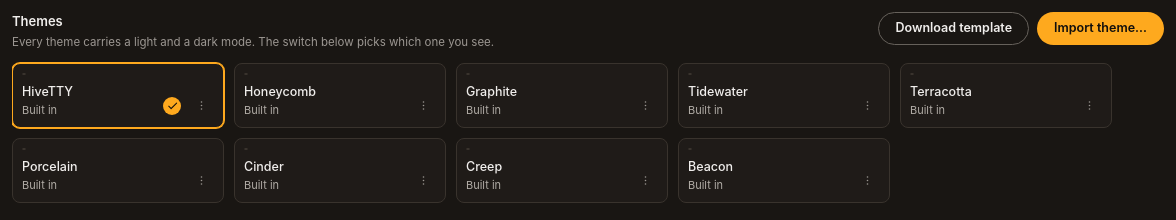
Test case: ThemeGallery › offers no Remove on graphite
This screenshot has width=1176, height=220.
What coordinates should you click on to do the following:
click the button named "Graphite actions"
I would click on:
 (646, 106)
Its box is 633,93 -> 658,118.
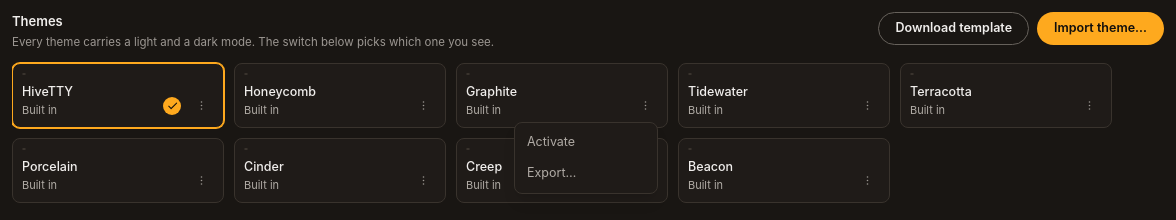
Expected: the menu item "Export…" is shown, 527,165 -> 576,180
